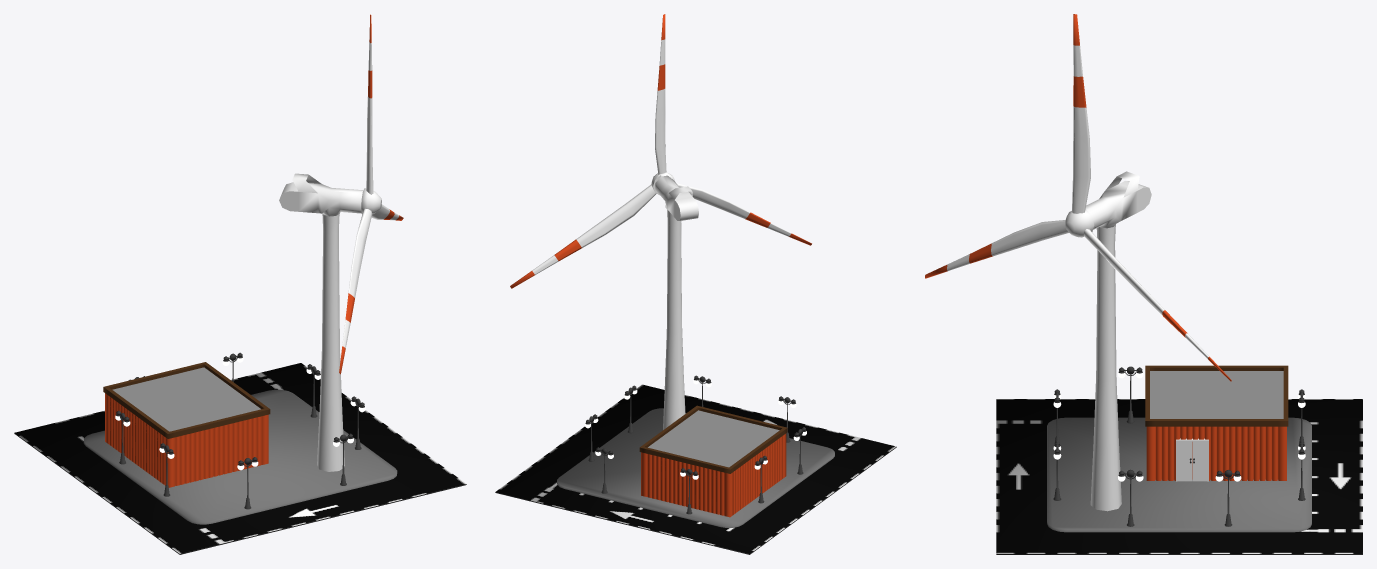
The model's file is WindMill.glb.
The picture shows the model from 3 angles, left to right: view 1: azimuth 30°, elevation 25°; view 2: azimuth 150°, elevation 25°; view 3: azimuth 270°, elevation 25°; orthographic projection. The views are drawn at different scales.
Visible parts, largest first — view 1: CityGroundLights2.003, Circle.002, Circle.003; view 2: CityGroundLights2.003, Circle.002, Circle.003; view 3: CityGroundLights2.003, Circle.002, Circle.003.
Part boxes in pixels (bbox=[...]): CityGroundLights2.003: bbox=[14, 352, 466, 554]; Circle.002: bbox=[103, 173, 381, 487]; Circle.003: bbox=[339, 14, 403, 374]; CityGroundLights2.003: bbox=[495, 375, 896, 554]; Circle.002: bbox=[639, 172, 787, 517]; Circle.003: bbox=[510, 14, 811, 288]; CityGroundLights2.003: bbox=[996, 366, 1362, 554]; Circle.002: bbox=[1065, 171, 1288, 511]; Circle.003: bbox=[925, 14, 1231, 381].
Size of the model in its own units: 3.45 by 4.59 by 3.58.
Materials: 9 (1 with a texture image).
